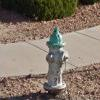Hydrant: (40, 21, 85, 96)
